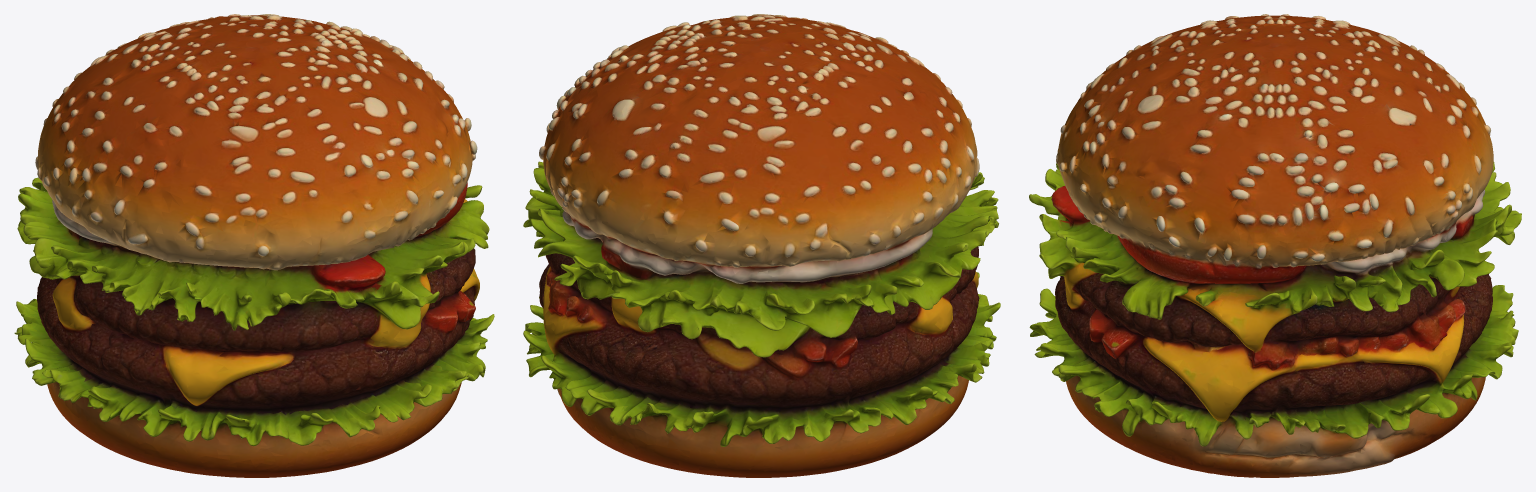
The model's file is burger.glb.glb.
3 renders of one model, left to right at view 1: azimuth 30°, elevation 25°; view 2: azimuth 150°, elevation 25°; view 3: azimuth 270°, elevation 25°, orthographic.
Parts seen in each view (by area): view 1: hamburger; view 2: hamburger; view 3: hamburger.
Part boxes in pixels (left/top/right/bottom): hamburger: left=14, top=14, right=494, bottom=477; hamburger: left=523, top=14, right=1000, bottom=477; hamburger: left=1029, top=14, right=1521, bottom=477.
Bounding box in the file's own units: 0.9776 × 0.7906 × 0.9998.
Materials: 1 (1 with a texture image).
